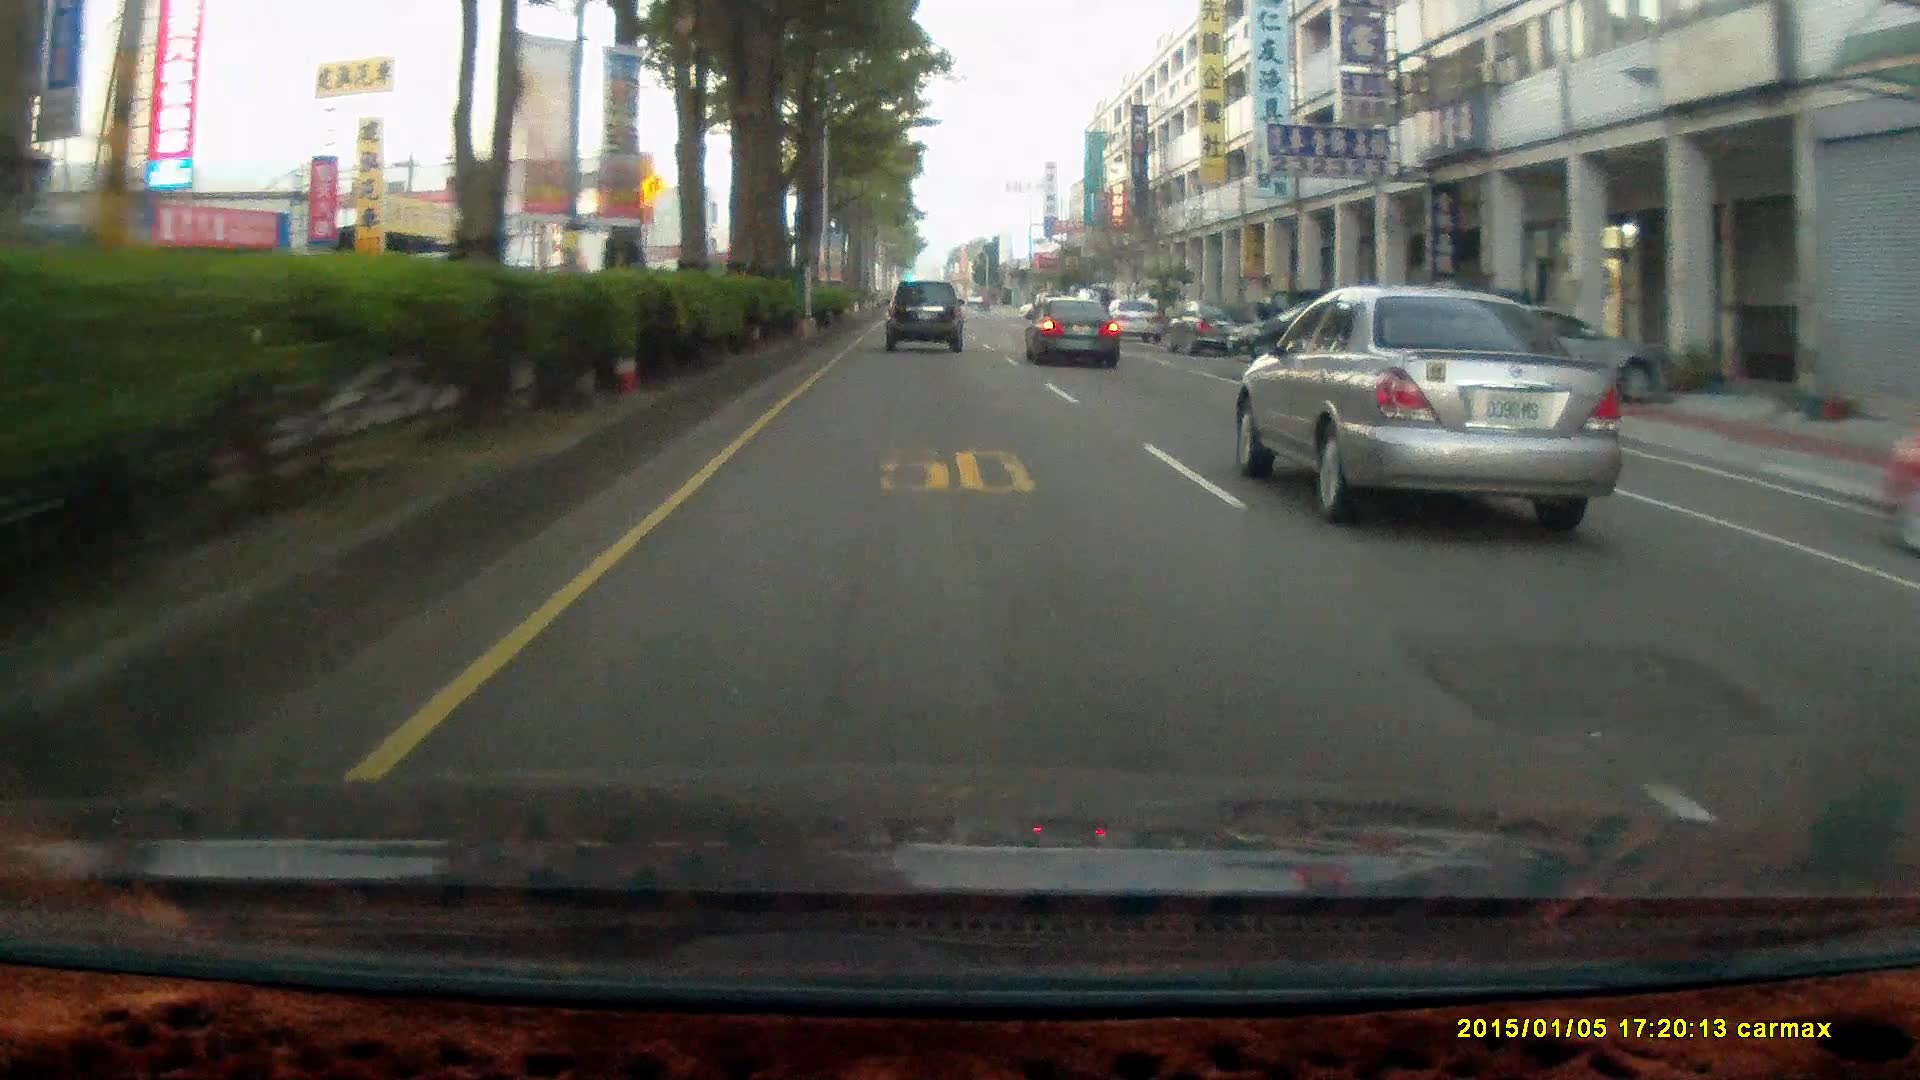vehicle: (1226, 286, 1638, 531), (1400, 302, 1676, 407), (1226, 295, 1399, 364), (1026, 293, 1125, 365), (1022, 293, 1117, 367), (886, 280, 967, 356), (882, 277, 965, 348), (1879, 426, 1920, 560), (1162, 298, 1247, 353), (1104, 294, 1160, 342)
